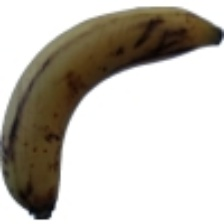banana: (41, 21, 198, 177)
